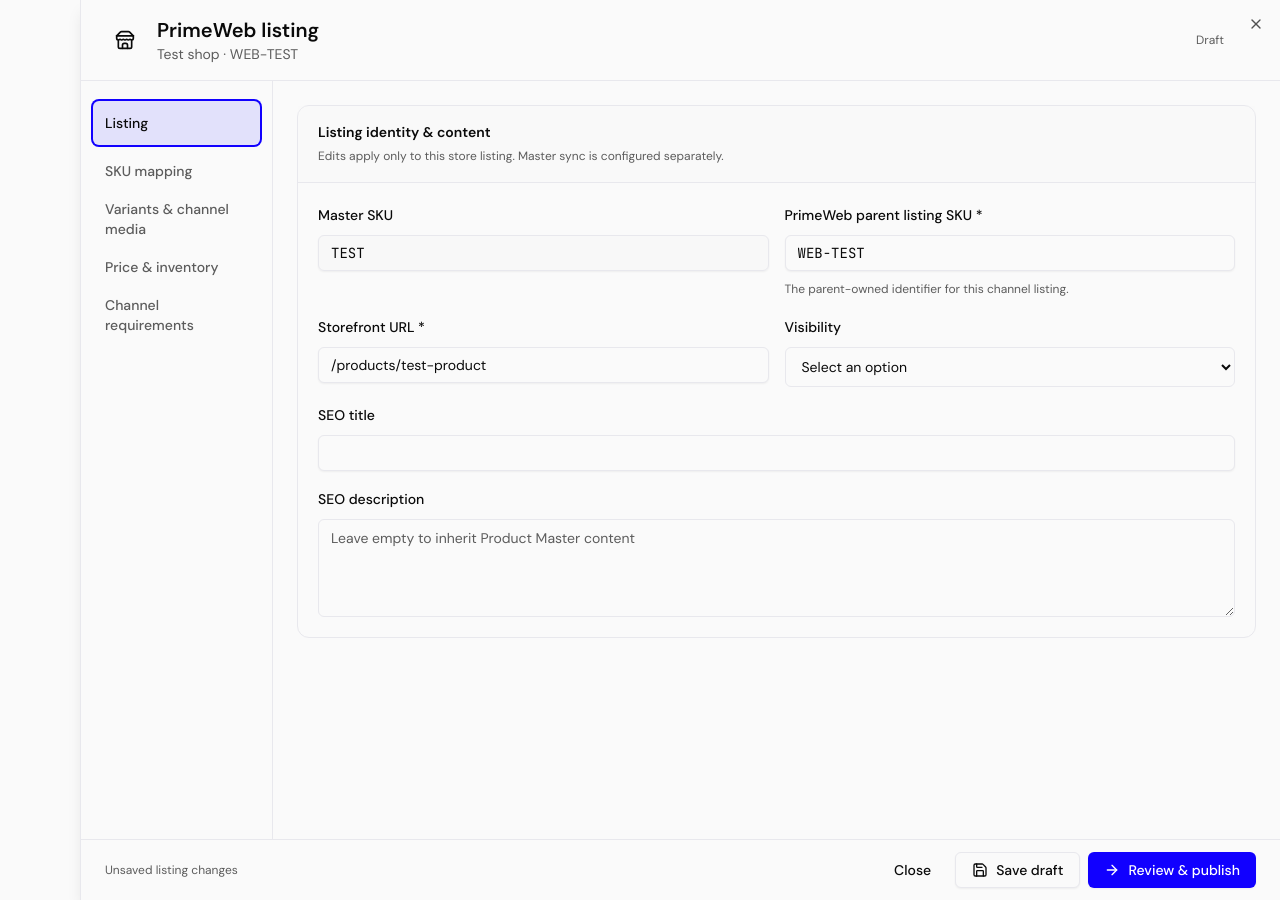
it: guided listing editor › prefills only empty identifiers, removes phantom readiness failures, and keeps inventory collapsed
Expected: the field labelled "PrimeWeb parent listing SKU *" holds "WEB-TEST", [784, 235, 1235, 271]
Expected: the field labelled "Storefront URL *" holds "/products/test-product", [318, 347, 768, 383]
Click the button "Price & inventory". click: (176, 267)
box: [93, 245, 260, 289]
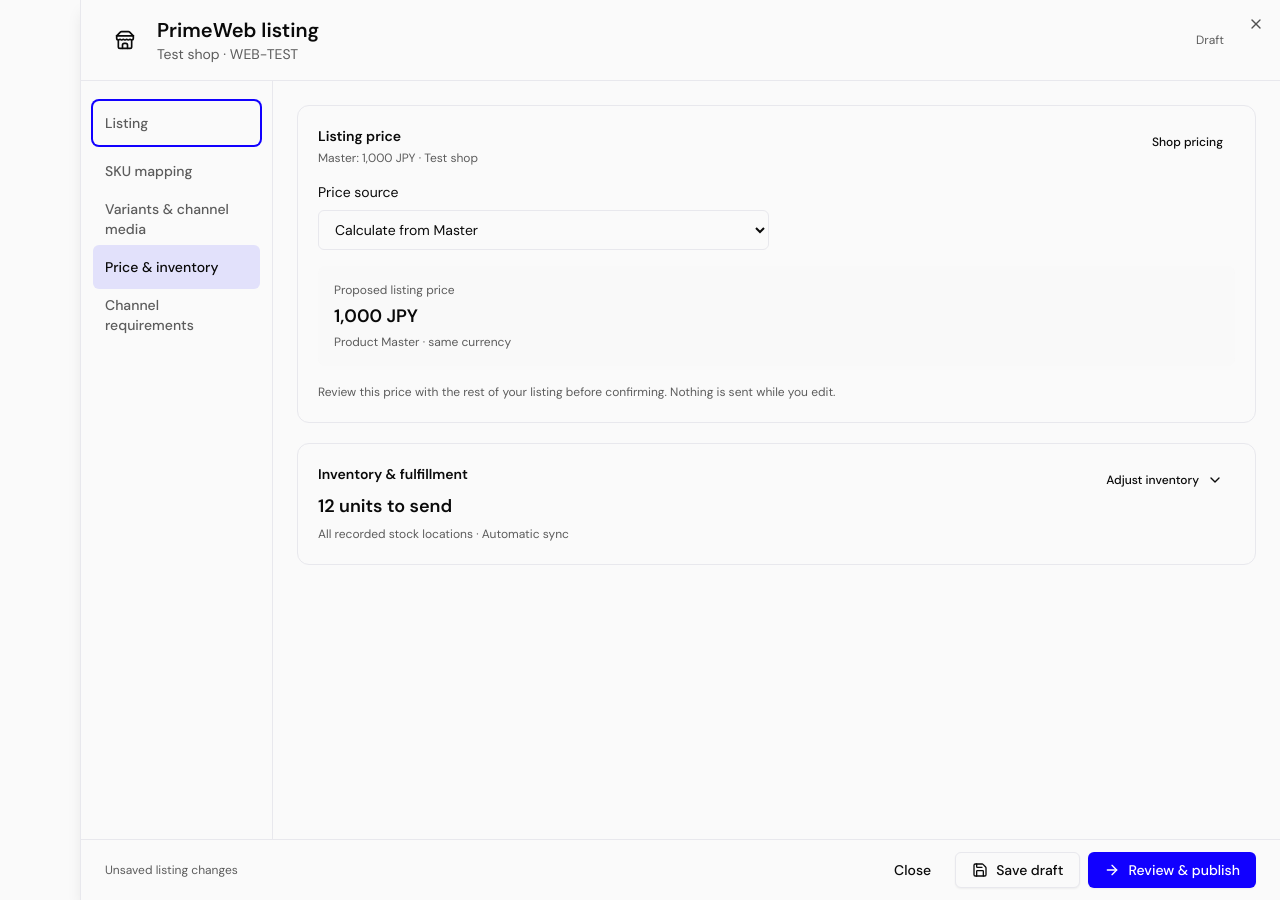
Expected: the button "Review & publish" is enabled, [1088, 852, 1256, 888]
Result: the text "12 units to send" is shown at [318, 494, 452, 518]
